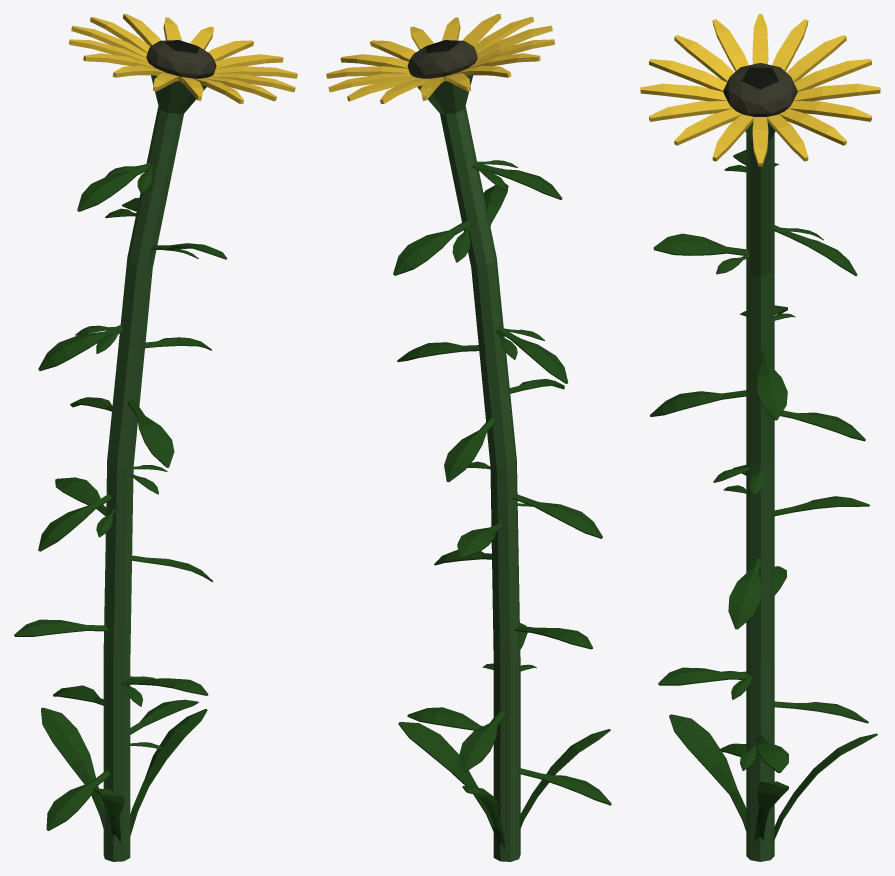
The model's file is sunflower.fbx.
3 views of the same model, side by side, from view 1: azimuth 30°, elevation 25°; view 2: azimuth 150°, elevation 25°; view 3: azimuth 270°, elevation 25° (orthographic). The views are drawn at different scales.
Parts seen in each view (by area): view 1: Cylinder, Cylinder.001; view 2: Cylinder, Cylinder.001; view 3: Cylinder, Cylinder.001.
Part boxes in pixels (<box>): Cylinder: <box>14,40,227,861</box>; Cylinder.001: <box>69,14,297,103</box>; Cylinder: <box>393,40,611,861</box>; Cylinder.001: <box>326,14,554,104</box>; Cylinder: <box>650,63,877,861</box>; Cylinder.001: <box>640,14,880,166</box>.
Size of the model in its own units: 173 by 515 by 136.
